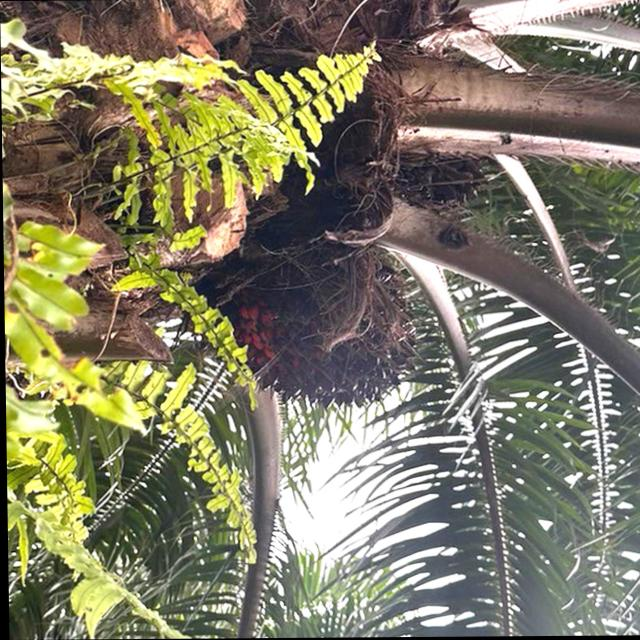ripe: (257, 248, 434, 410)
